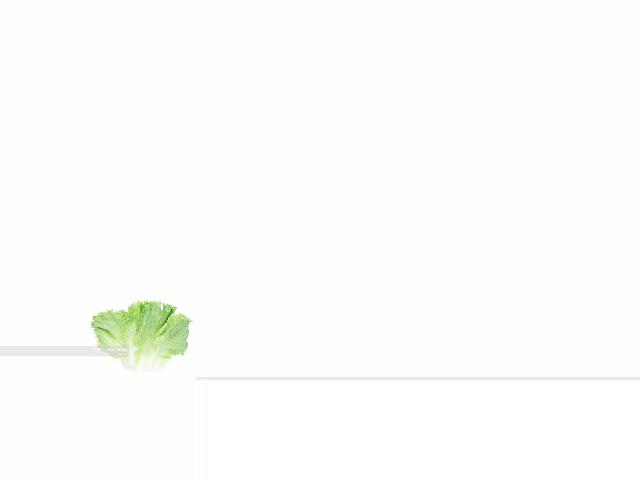lettuce: (95, 302, 190, 374)
